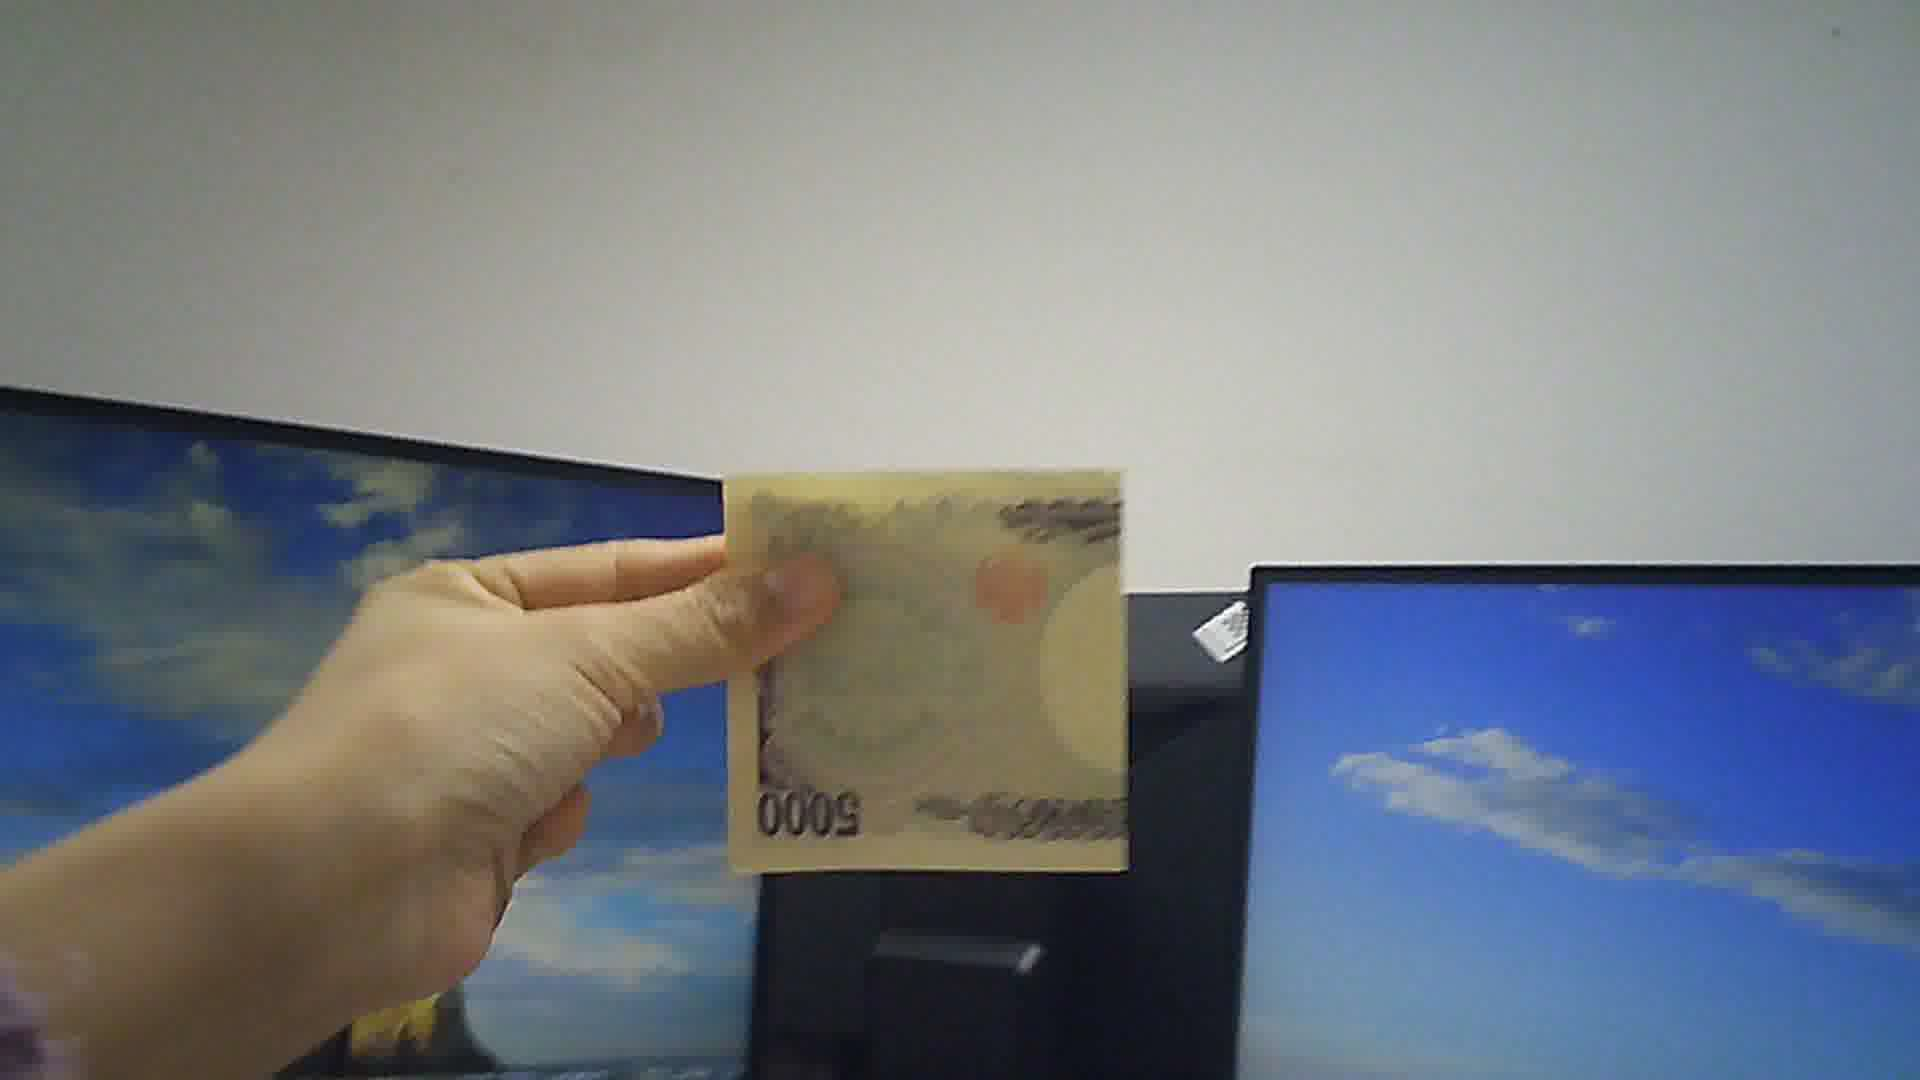5,000 Yen: (694, 440, 1160, 887)
